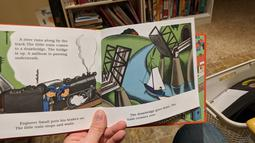text block: (10, 35, 72, 63), (120, 102, 183, 126), (16, 112, 85, 132)
